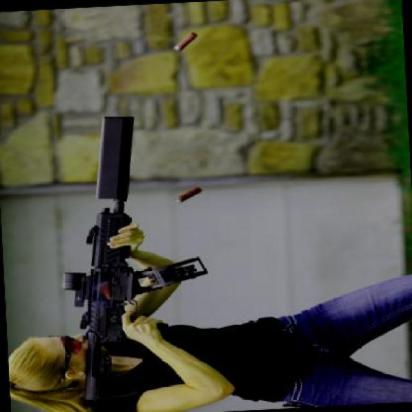Gun: (41, 107, 225, 401)
